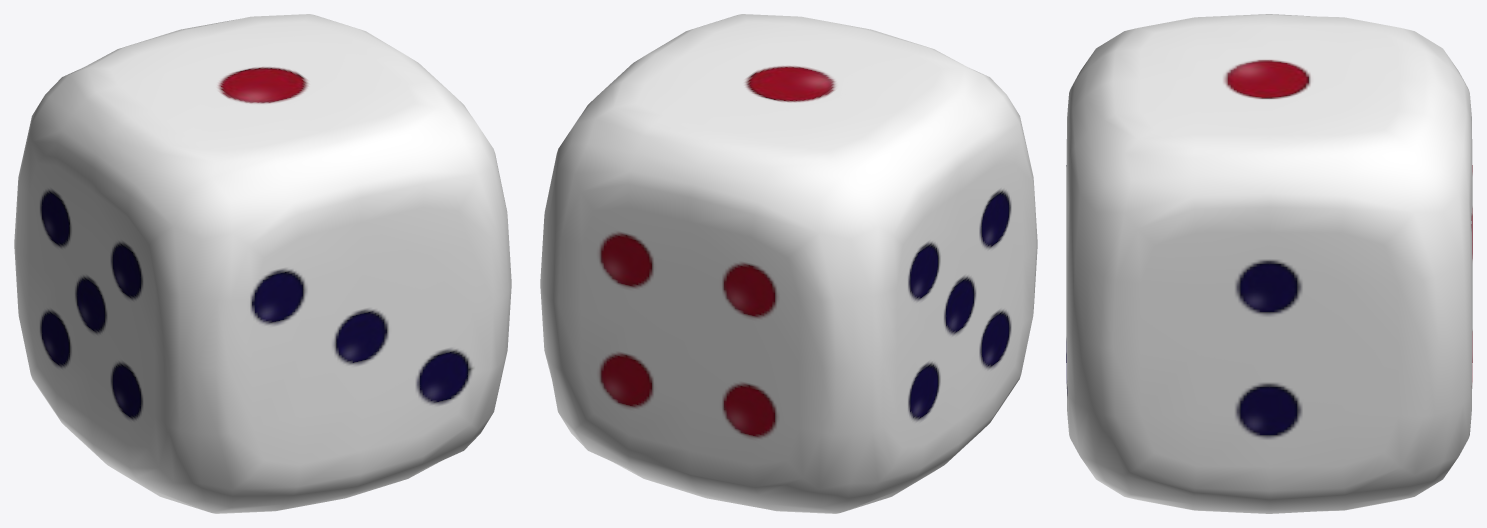
The picture shows the model from 3 angles, left to right: view 1: azimuth 30°, elevation 25°; view 2: azimuth 150°, elevation 25°; view 3: azimuth 270°, elevation 25°; orthographic projection. The views are drawn at different scales.
Parts seen in each view (by area): view 1: TZ_MX; view 2: TZ_MX; view 3: TZ_MX.
Part boxes in pixels (left/top/right/bottom): TZ_MX: left=14, top=14, right=511, bottom=513; TZ_MX: left=540, top=14, right=1037, bottom=513; TZ_MX: left=1066, top=14, right=1472, bottom=513.
Bounding box in the file's own units: 1.6 × 1.6 × 1.6.
